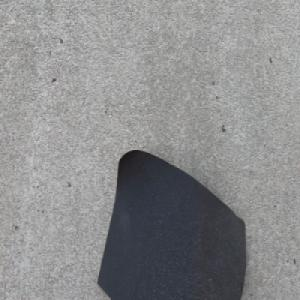PaintChip: (96, 147, 247, 300)
